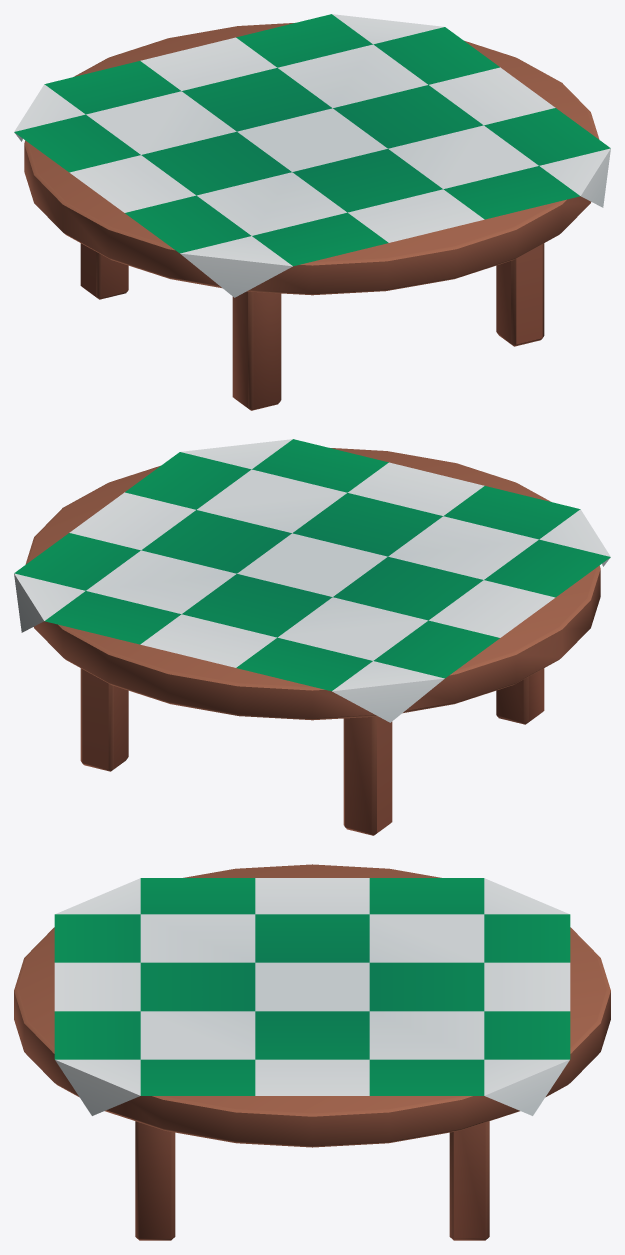
Rendered from table_round_B_tablecloth_green.obj.
The picture shows the model from 3 angles, top to bottom: view 1: azimuth 30°, elevation 25°; view 2: azimuth 150°, elevation 25°; view 3: azimuth 270°, elevation 25°; orthographic projection. The views are drawn at different scales.
Visible parts, largest first — view 1: table_round_B_tablecloth_green_Cylinder.371; view 2: table_round_B_tablecloth_green_Cylinder.371; view 3: table_round_B_tablecloth_green_Cylinder.371.
Boxes of the visible parts, x1,y1,x2,y2 form: table_round_B_tablecloth_green_Cylinder.371: [14, 14, 610, 410]; table_round_B_tablecloth_green_Cylinder.371: [14, 439, 610, 835]; table_round_B_tablecloth_green_Cylinder.371: [14, 864, 610, 1240].
Bounding box in the file's own units: 3 × 1 × 3.
1 material, 1 textured.
